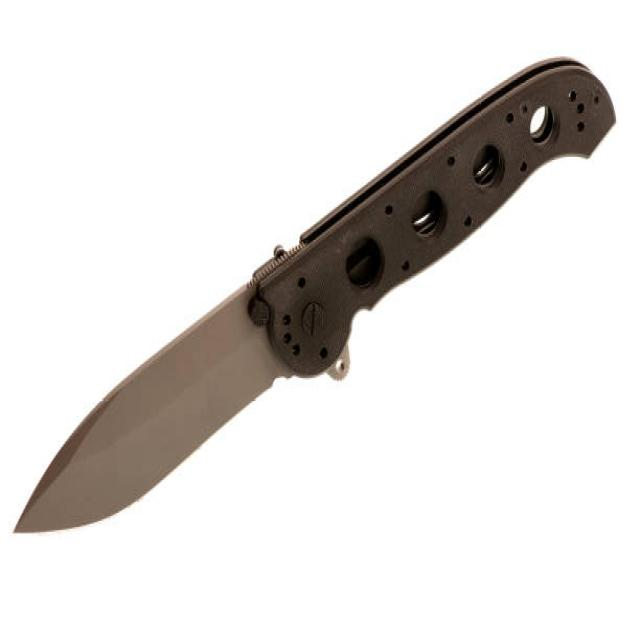knife: (12, 45, 621, 554)
